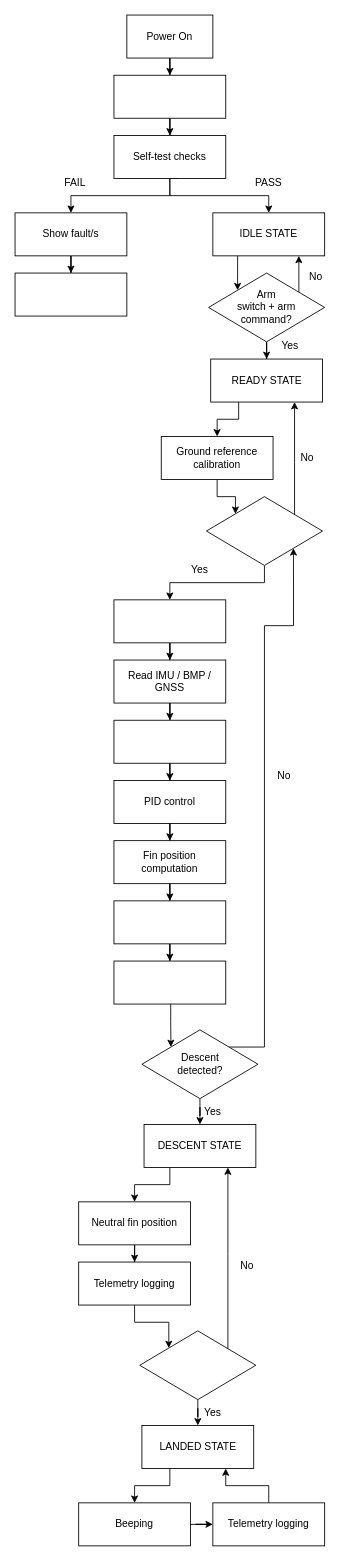
This 357x1561 diagram has some shape labels left out. The shapes that lost their labels are listed below. From the top down, each one's box as (x1, y1, x2, y2) in pixels, then its label:
(113, 74, 226, 118): Initialize MCU and peripherals
(14, 272, 127, 316): SAFE MODE
(206, 496, 322, 565): Launch detected?
(113, 599, 226, 643): ASCENT STATE
(113, 719, 226, 763): Filter data
(113, 900, 226, 944): PWM output
(113, 960, 226, 1004): Telemetry + position logging
(139, 1330, 256, 1400): Landing detected?
